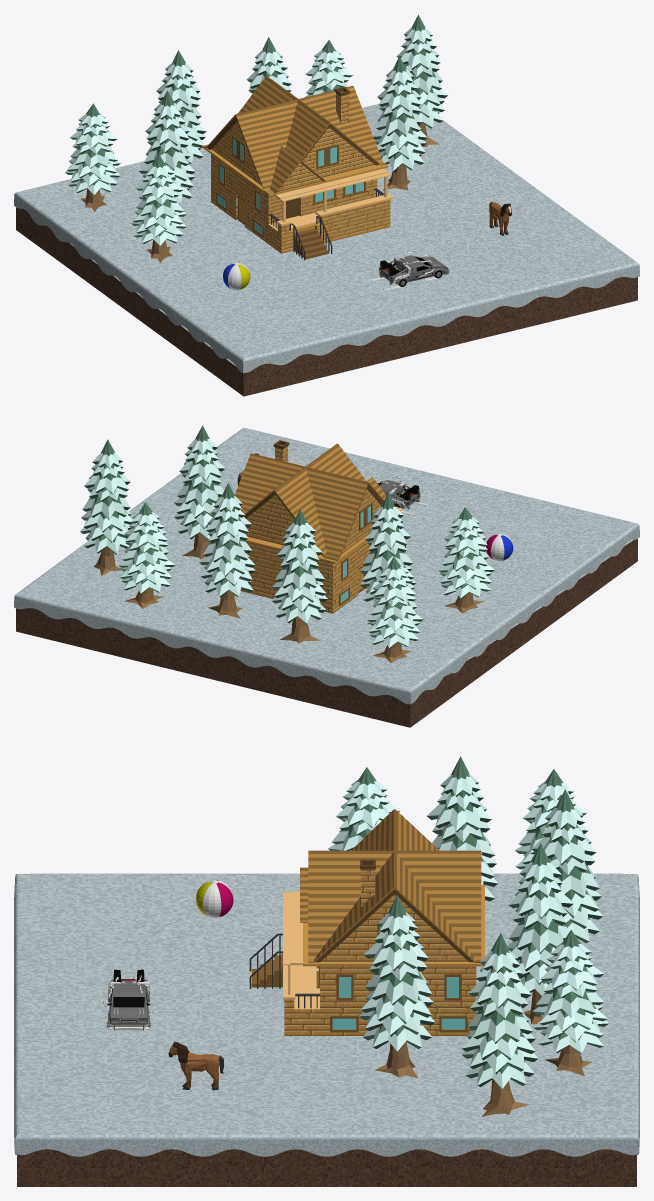
3 renders of one model, top to bottom at view 1: azimuth 30°, elevation 25°; view 2: azimuth 150°, elevation 25°; view 3: azimuth 270°, elevation 25°, orthographic. The views are drawn at different scales.
Visible parts, largest first — view 1: Cube.003, Cube.508, VEHICLES_DELOREAN, OBJRANDOM_BEACHBALL, ANIMAL_CABALLO; view 2: Cube.003, Cube.508, VEHICLES_DELOREAN, OBJRANDOM_BEACHBALL; view 3: Cube.003, Cube.508, VEHICLES_DELOREAN, ANIMAL_CABALLO, OBJRANDOM_BEACHBALL.
Part boxes in pixels (left/top/right/bottom): Cube.003: left=14, top=14, right=639, bottom=396; Cube.508: left=202, top=76, right=393, bottom=260; VEHICLES_DELOREAN: left=366, top=249, right=449, bottom=290; OBJRANDOM_BEACHBALL: left=223, top=262, right=250, bottom=290; ANIMAL_CABALLO: left=489, top=202, right=511, bottom=235; Cube.003: left=14, top=425, right=639, bottom=727; Cube.508: left=235, top=440, right=405, bottom=613; VEHICLES_DELOREAN: left=376, top=475, right=428, bottom=515; OBJRANDOM_BEACHBALL: left=486, top=533, right=513, bottom=560; Cube.003: left=14, top=756, right=639, bottom=1186; Cube.508: left=249, top=809, right=484, bottom=1035; VEHICLES_DELOREAN: left=99, top=969, right=155, bottom=1030; ANIMAL_CABALLO: left=168, top=1041, right=223, bottom=1090; OBJRANDOM_BEACHBALL: left=196, top=880, right=233, bottom=917.
Size of the model in its own units: 4040 by 1665 by 4040.
Materials: 36 (4 with a texture image).
